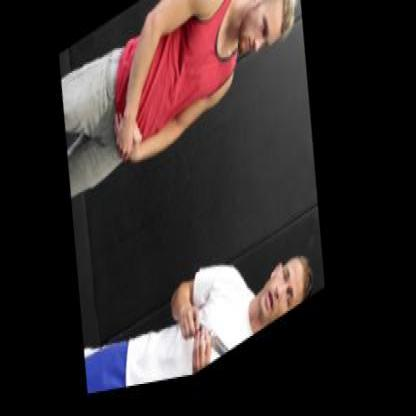knife: (193, 295, 252, 381)
